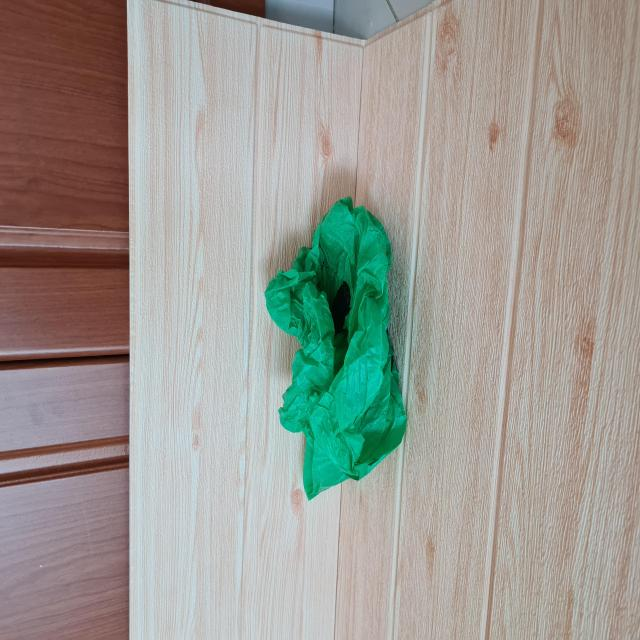plastic bag: (268, 197, 410, 503)
